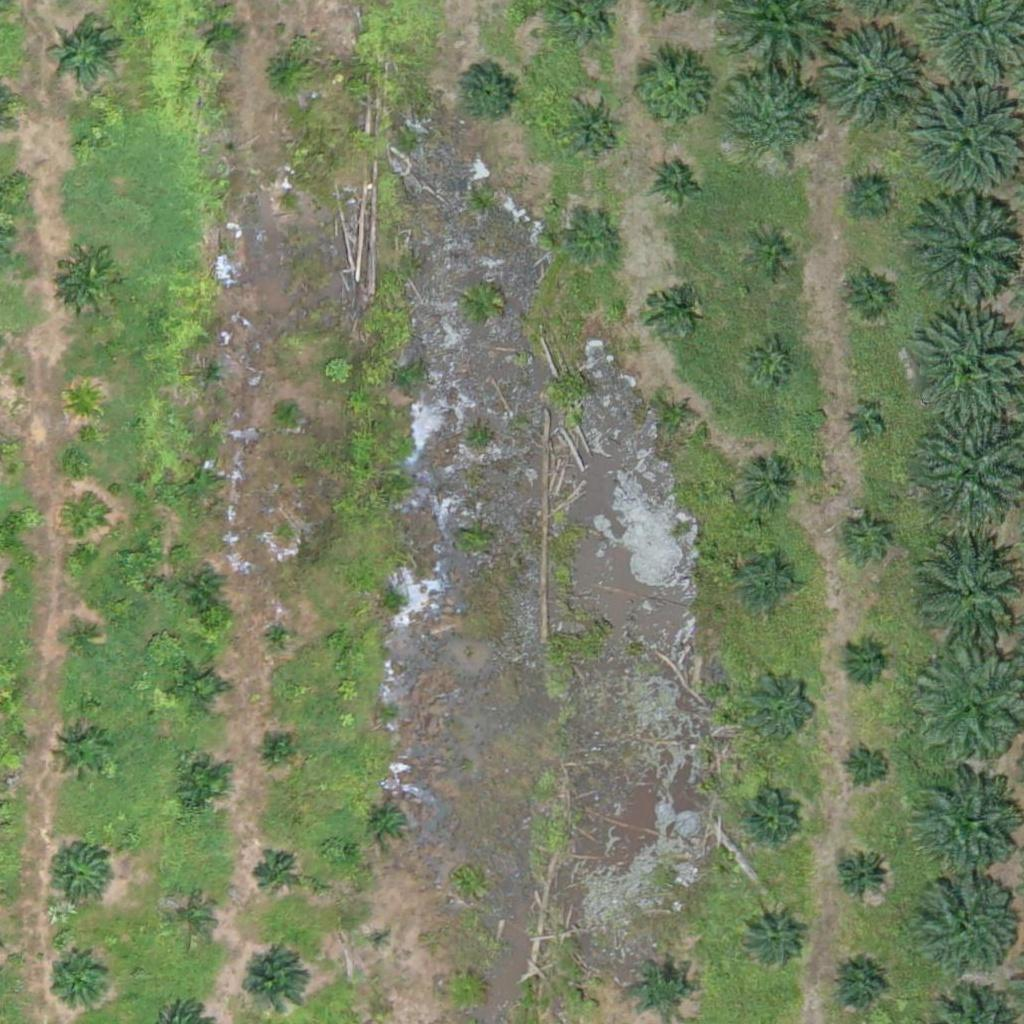Kelapa_Sawit: (810, 24, 923, 137), (910, 773, 1022, 887), (916, 871, 1016, 972), (626, 48, 713, 136), (726, 75, 813, 163), (46, 19, 121, 95), (744, 667, 819, 742), (561, 100, 624, 163), (456, 59, 519, 122), (58, 251, 121, 314), (631, 955, 694, 1018), (740, 794, 803, 857), (830, 844, 893, 907), (49, 723, 111, 786), (169, 756, 231, 819), (47, 843, 109, 906), (51, 954, 113, 1017), (740, 454, 802, 517), (739, 551, 801, 614), (741, 905, 803, 968), (827, 956, 889, 1019), (649, 152, 711, 215), (168, 657, 230, 720), (842, 511, 892, 562), (196, 9, 246, 60), (258, 44, 308, 95), (838, 635, 888, 686), (250, 849, 300, 900), (568, 219, 618, 269), (644, 283, 694, 333), (746, 339, 796, 389), (747, 230, 797, 280), (165, 894, 215, 944), (842, 743, 892, 793), (844, 171, 894, 221), (845, 274, 895, 324), (364, 797, 414, 847), (661, 397, 699, 435), (64, 382, 102, 420), (844, 406, 882, 444), (448, 971, 486, 1009), (262, 619, 300, 657), (186, 571, 224, 609), (66, 504, 104, 542), (65, 624, 103, 662), (182, 462, 220, 500), (191, 356, 228, 394), (264, 735, 289, 761), (276, 396, 301, 421), (273, 187, 298, 212), (74, 134, 99, 159), (368, 925, 393, 950)
